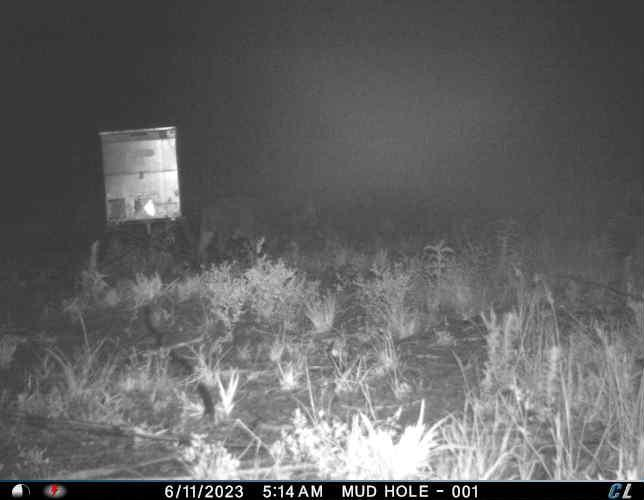Hog: (193, 193, 275, 263)
